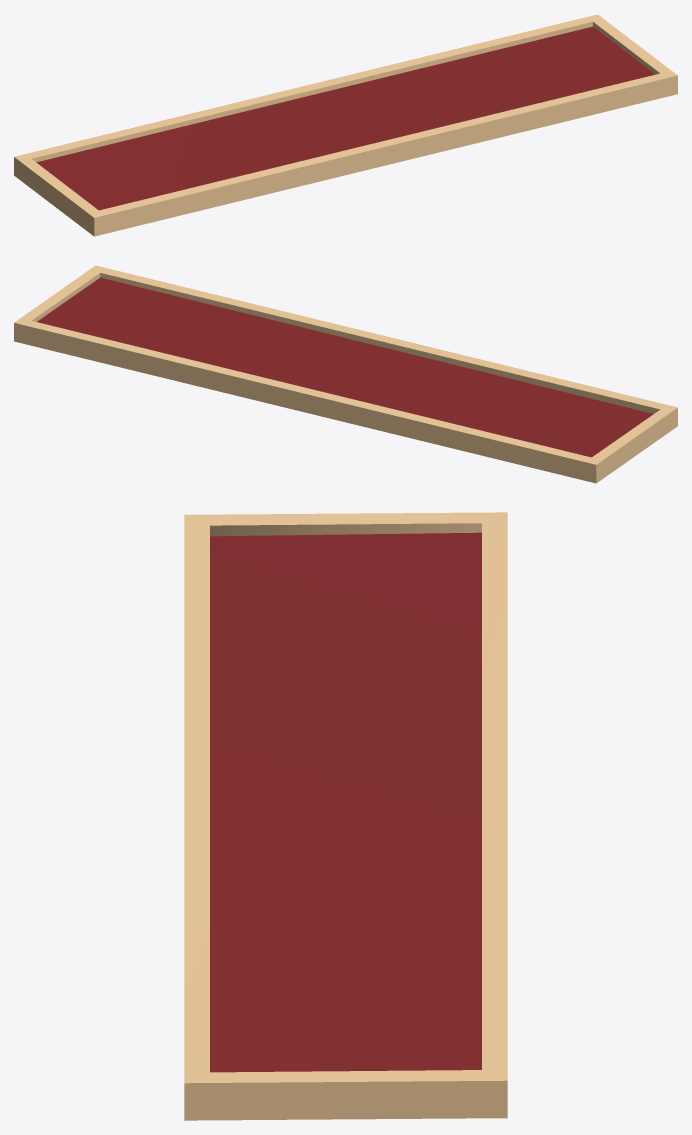
Rendered from small road.glb.
3 views of the same model, one above another, from view 1: azimuth 30°, elevation 25°; view 2: azimuth 150°, elevation 25°; view 3: azimuth 270°, elevation 25° (orthographic). The views are drawn at different scales.
Parts seen in each view (by area): view 1: Floor_3; view 2: Floor_3; view 3: Floor_3.
Boxes of the visible parts, x1,y1,x2,y2 form: Floor_3: [14, 14, 677, 236]; Floor_3: [14, 265, 677, 483]; Floor_3: [184, 512, 507, 1120].
Bounding box in the file's own units: 6.97 × 0.2317 × 1.67.
